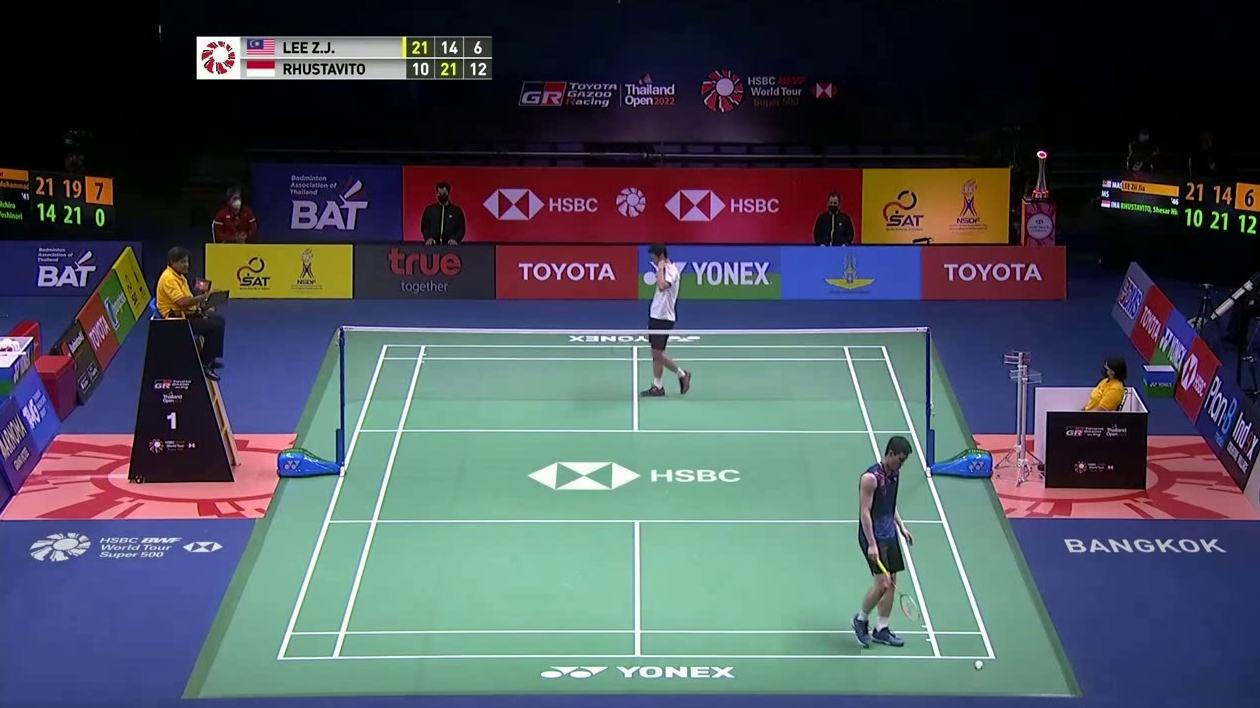racket: (872, 554, 922, 625)
shuttle: (972, 658, 985, 673)
